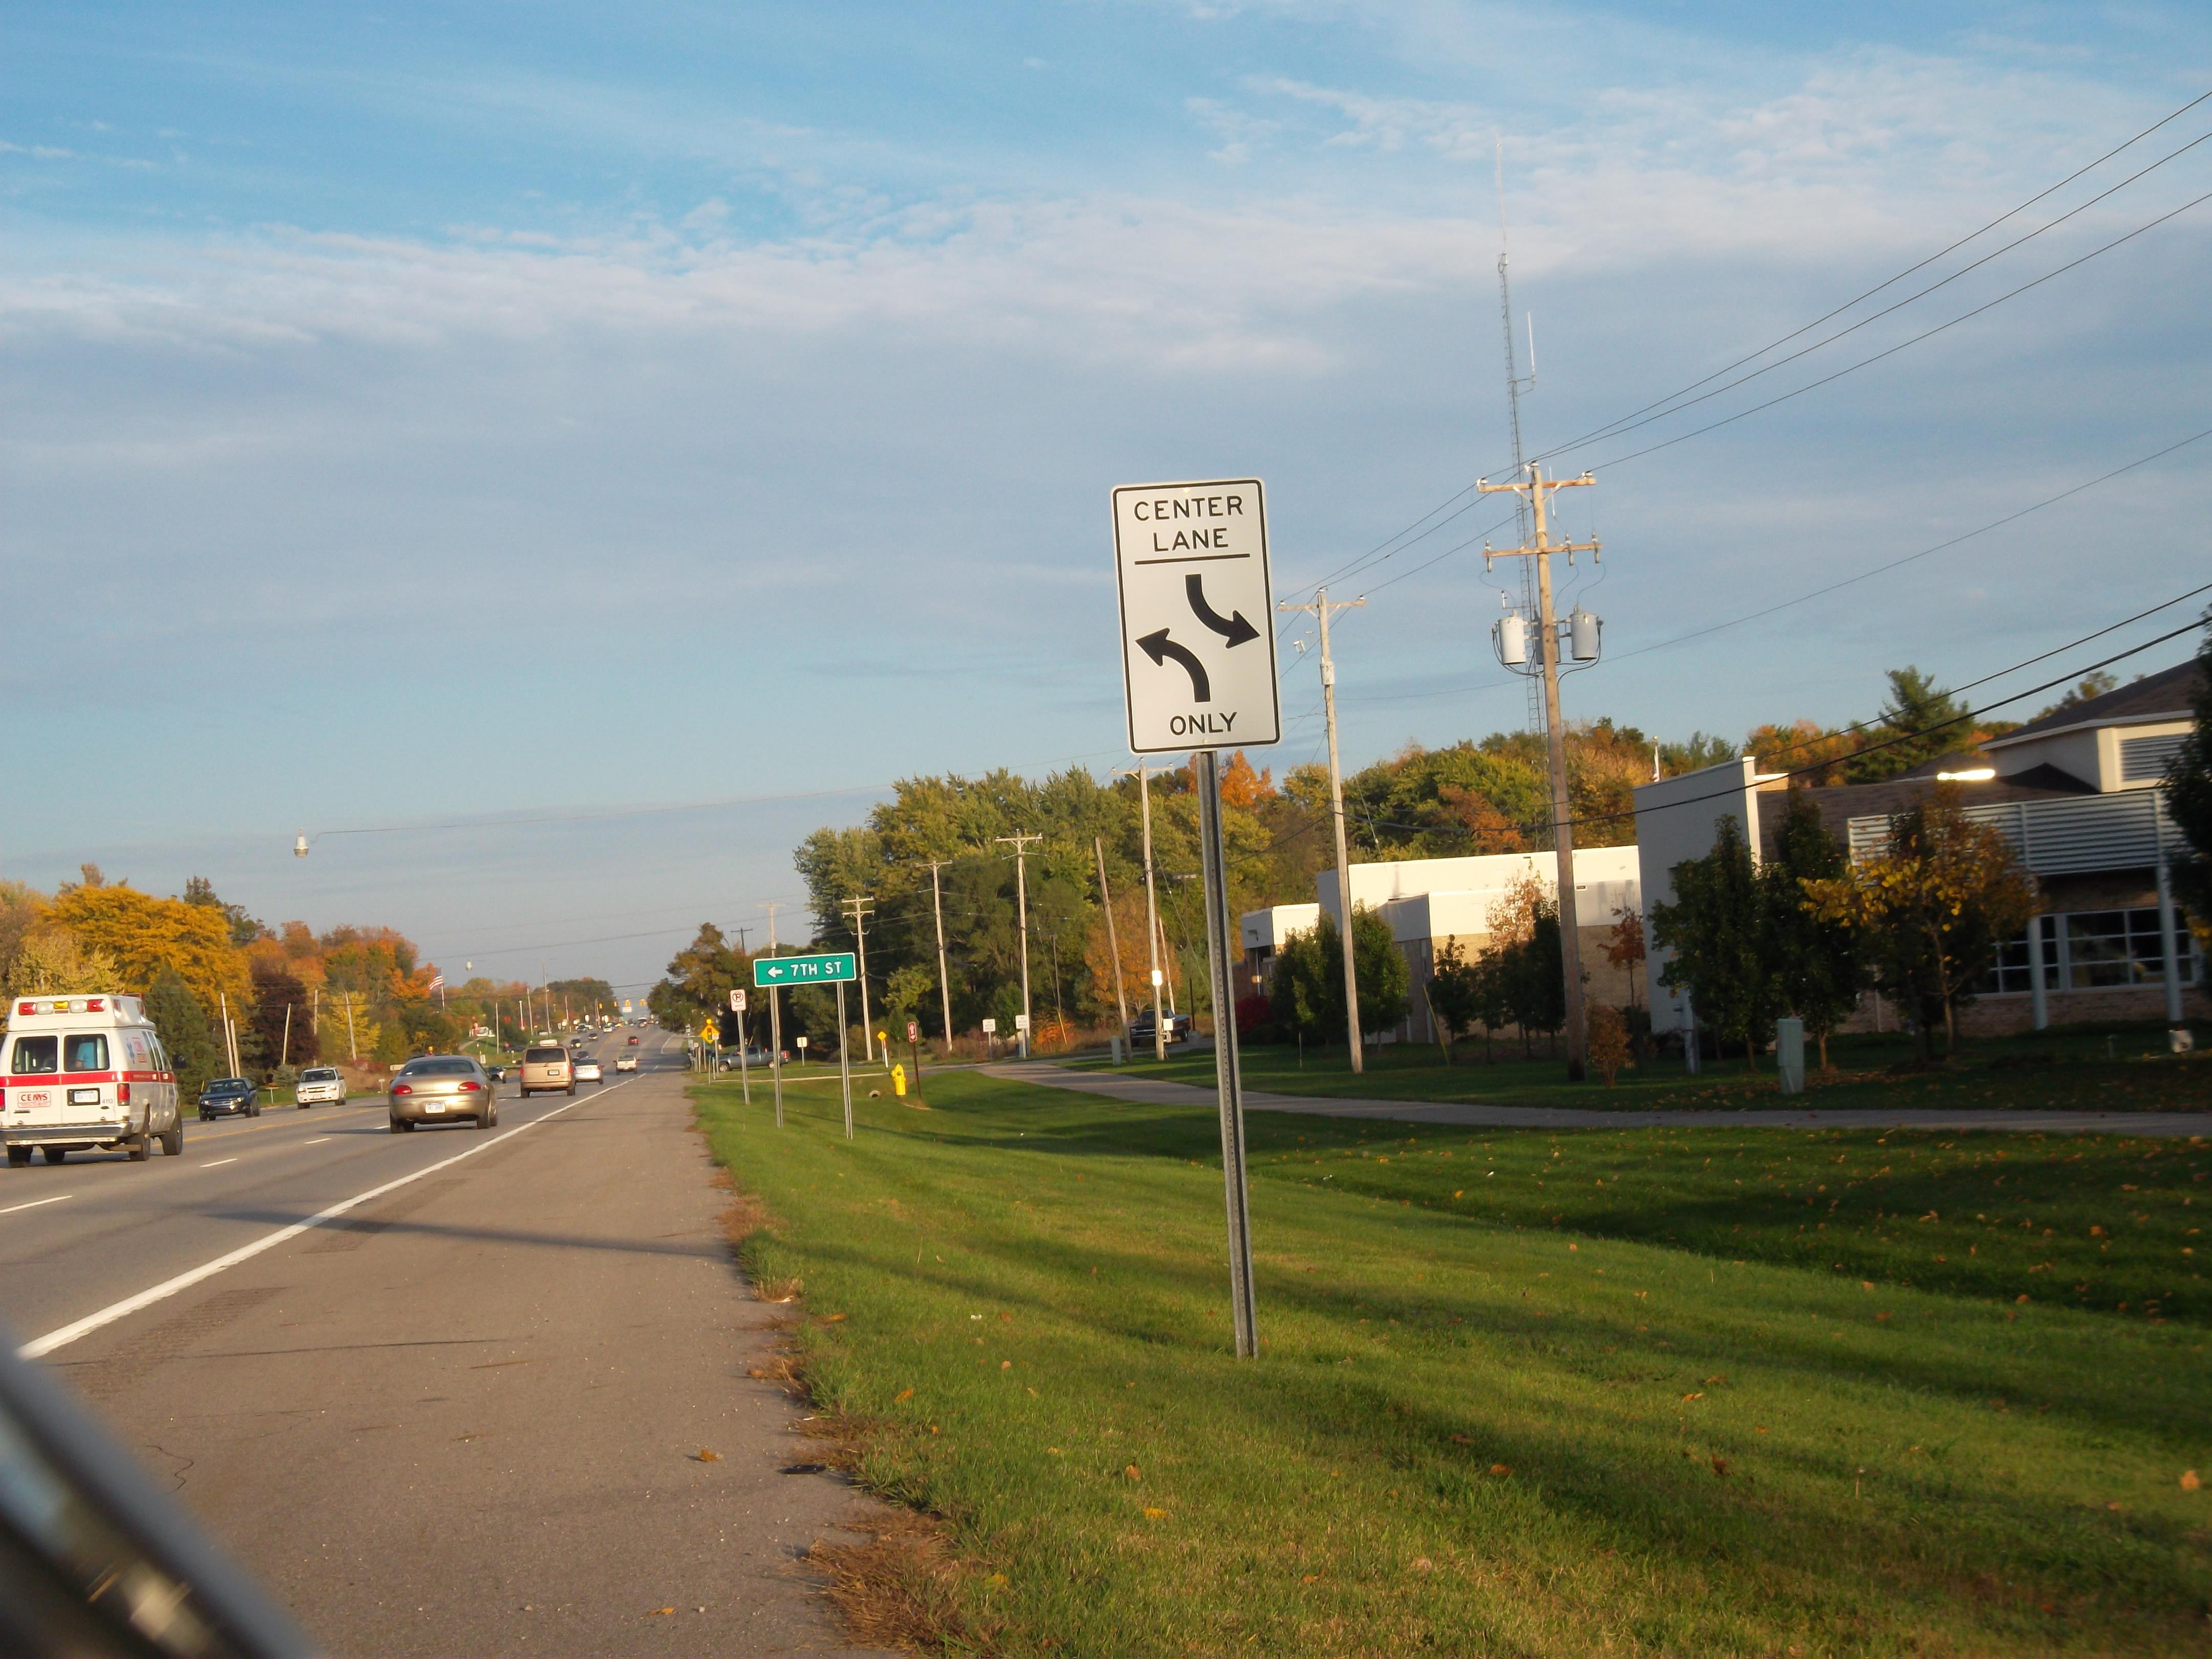regulatory: (1097, 464, 1294, 748)
warning: (698, 1021, 721, 1046)
